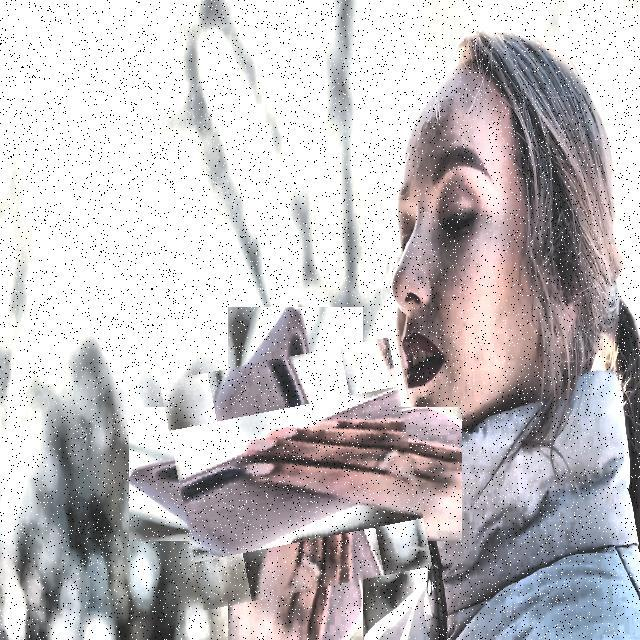Phone: (169, 347, 422, 600)
